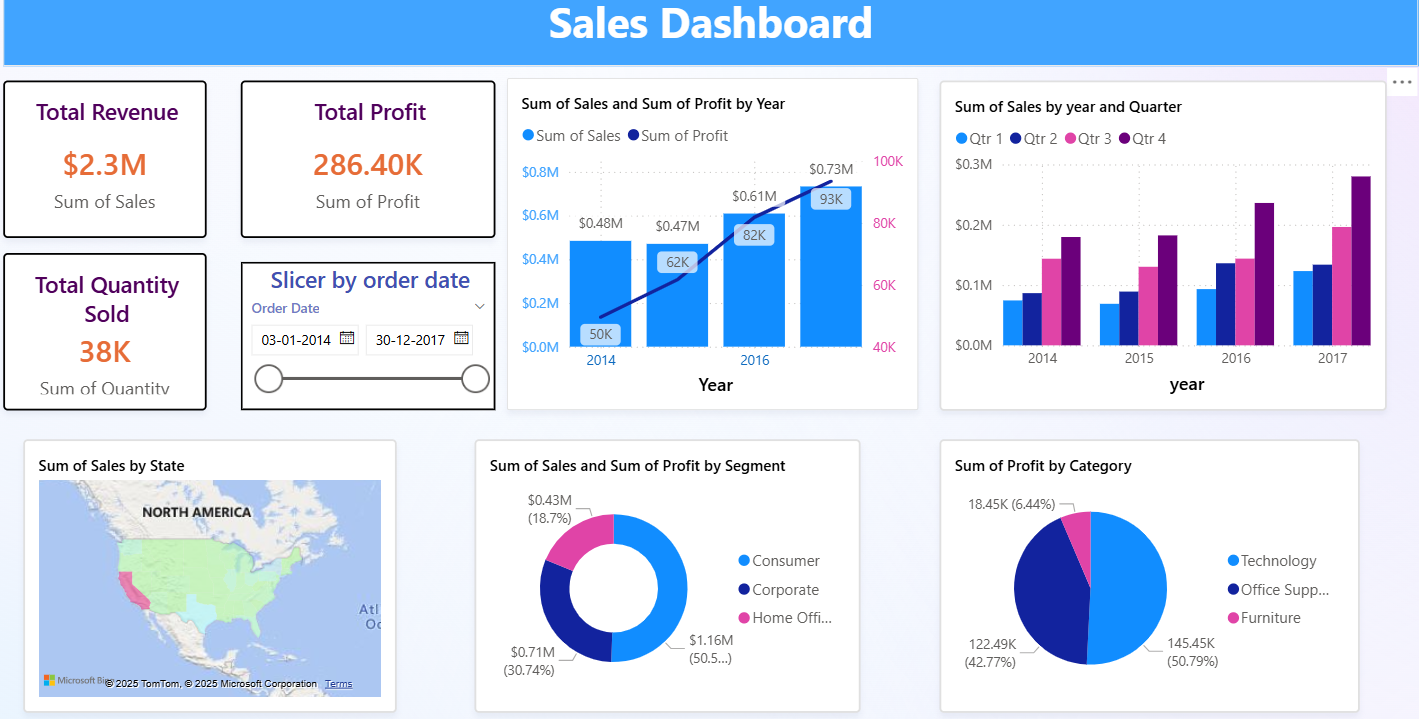

This screenshot's page, from the dashboard's own definition file:
{"tool":"powerbi","page":{"name":"Overall Sales","canvas":[1280,720],"ordinal":0},"visuals":[{"type":"textbox","box":[9.8,0,1258.3,69.7],"z":0},{"type":"card","title":"Total Revenue","fields":{"Values":["Sum(Orders.Sales)"]},"box":[9.6,82.3,181.1,140],"z":1000},{"type":"card","title":"Total Quantity Sold","fields":{"Values":["Sum(Orders.Quantity)"]},"box":[10,235.6,181.1,140],"z":2000},{"type":"card","title":"Total Profit","fields":{"Values":["Sum(Orders.Profit)"]},"box":[221.1,82.2,226.7,140],"z":3000},{"type":"slicer","title":"Slicer by order date","fields":{"Values":["Orders.Order Date"]},"box":[221.1,243.3,226.7,132.2],"z":4000},{"type":"lineStackedColumnComboChart","fields":{"Category":["Orders.Order Date.Variation.Date Hierarchy.Year","Orders.Order Date.Variation.Date Hierarchy.Quarter","Orders.Order Date.Variation.Date Hierarchy.Month","Orders.Order Date.Variation.Date Hierarchy.Day"],"Y":["Sum(Orders.Sales)"],"Y2":["Sum(Orders.Profit)"]},"box":[457.8,80,365.6,295.6],"z":5000},{"type":"clusteredColumnChart","fields":{"Category":["Orders.year"],"Series":["Orders.Quarter"],"Y":["Sum(Orders.Sales)"]},"box":[842.2,82.2,397.8,293.3],"z":6000},{"type":"filledMap","fields":{"Category":["Orders.State"]},"box":[27.8,401.1,332.2,243.3],"z":7000},{"type":"donutChart","fields":{"Category":["Orders.Segment"],"Y":["Sum(Orders.Sales)"]},"box":[428.9,401.1,343.3,243.3],"z":8000},{"type":"pieChart","fields":{"Category":["Orders.Category"],"Y":["Sum(Orders.Profit)"]},"box":[842.2,401.1,373.3,243.3],"z":9000}]}

Visuals, with their boxes on the page's 1280x720 design canvas (x1, y1, x2, y2). These are canvas units, not pixel positions in the 1419x719 screenshot, which may show the page scaled, cropped or inside an application window:
textbox: [left=10, top=0, right=1268, bottom=70]
"Total Revenue" card: [left=10, top=82, right=191, bottom=222]
"Total Quantity Sold" card: [left=10, top=236, right=191, bottom=376]
"Total Profit" card: [left=221, top=82, right=448, bottom=222]
"Slicer by order date" slicer: [left=221, top=243, right=448, bottom=376]
lineStackedColumnComboChart - Orders.Order Date.Variation.Date Hierarchy.Year x Orders.Order Date.Variation.Date Hierarchy.Quarter: [left=458, top=80, right=823, bottom=376]
clusteredColumnChart - Orders.year x Orders.Quarter: [left=842, top=82, right=1240, bottom=376]
filledMap - Orders.State: [left=28, top=401, right=360, bottom=644]
donutChart - Orders.Segment x Sum(Orders.Sales): [left=429, top=401, right=772, bottom=644]
pieChart - Orders.Category x Sum(Orders.Profit): [left=842, top=401, right=1216, bottom=644]
